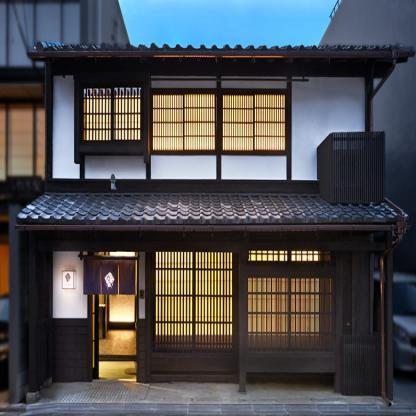Blind: (152, 251, 239, 353), (248, 277, 335, 352), (80, 82, 143, 144), (152, 95, 215, 150), (223, 95, 285, 150), (78, 254, 139, 295)
Building Outline: (14, 42, 415, 404)
Door: (92, 251, 139, 382)
Facade: (48, 58, 373, 382)
Floor Slab: (46, 183, 373, 193)
Ground Floor: (30, 231, 374, 382)
Pillar: (26, 231, 40, 404), (237, 251, 247, 394), (385, 230, 393, 400)
Roof: (14, 192, 412, 231), (26, 42, 415, 59)
Top Floor: (46, 58, 373, 183)
Window: (152, 251, 239, 353), (248, 277, 335, 352), (80, 82, 143, 144), (152, 95, 215, 150), (223, 95, 285, 150), (248, 251, 335, 262)
Window Outline: (150, 88, 292, 155), (73, 74, 148, 162)
